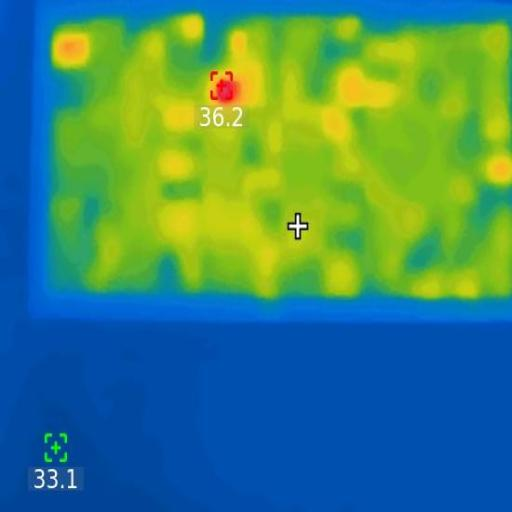hotspot: (210, 80, 242, 102)
